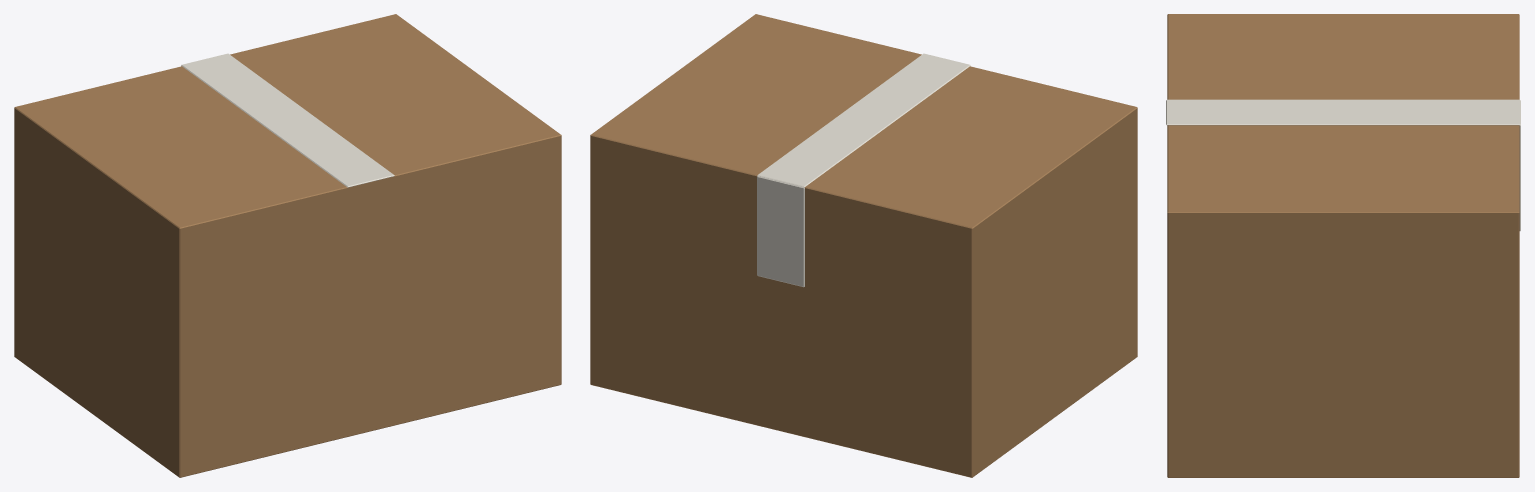
The model's file is prop_box_small.glb.
The picture shows the model from 3 angles, left to right: view 1: azimuth 30°, elevation 25°; view 2: azimuth 150°, elevation 25°; view 3: azimuth 270°, elevation 25°; orthographic projection. The views are drawn at different scales.
Visible parts, largest first — view 1: Box; view 2: Box; view 3: Box.
Part boxes in pixels (<box>): Box: <box>14,14,561,477</box>; Box: <box>590,14,1137,477</box>; Box: <box>1166,14,1520,477</box>.
Size of what is drawn, in the model's own units: 0.4 by 0.251 by 0.302.
